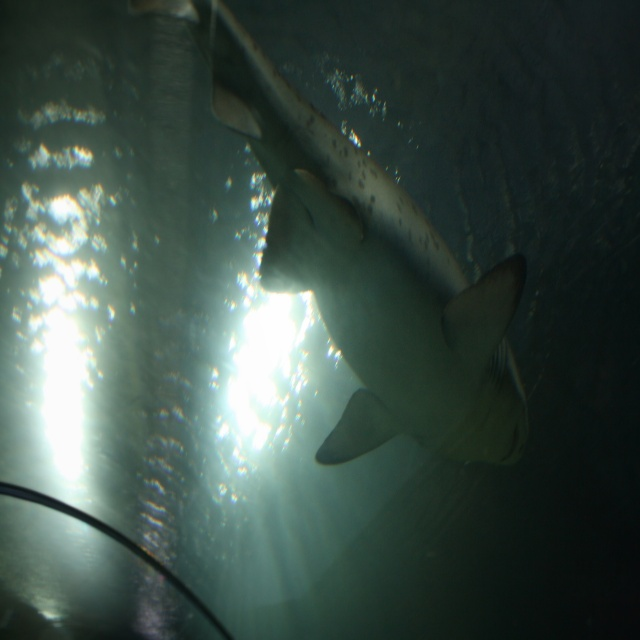Shark: (162, 0, 548, 507)
